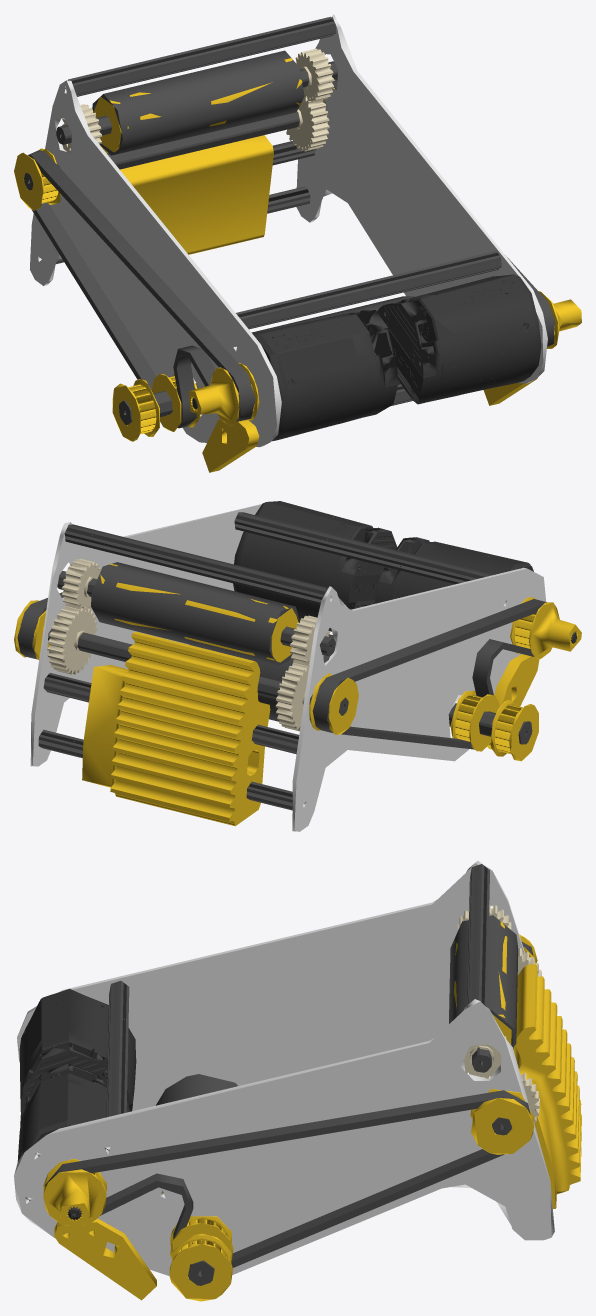
The model's file is 604-hood.glb.
3 renders of one model, top to bottom at view 1: azimuth 30°, elevation 25°; view 2: azimuth 150°, elevation 25°; view 3: azimuth 270°, elevation 25°, orthographic. The views are drawn at different scales.
Parts seen in each view (by area): view 1: Hood Plate, WCP Lightened Hex - 3-8 in, L: 6p5 in, Kraken X60 Brushless Motor, 3D Printed HTD5M Pulley - 18T, Bore: Spline XS, Hub L: 0p75 , Kraken X60 Back Cap (WCP), 20t Aluminum Spur Gear (20 DP, 3/8" Hex Bore); view 2: 3D Printed HTD5M Pulley - 18T, Bore: Spline XS, Hub L: 0p75 , WCP Lightened Hex - 3-8 in, L: 6p5 in, Hood Plate, Kraken X60 Brushless Motor, 20t Aluminum Spur Gear (20 DP, 3/8" Hex Bore), Kraken X60 Back Cap (WCP); view 3: Hood Plate, WCP Lightened Hex - 3-8 in, L: 6p5 in, 3D Printed HTD5M Pulley - 18T, Bore: Spline XS, Hub L: 0p75 , Kraken X60 Brushless Motor, Kraken X60 Back Cap (WCP), 20t Aluminum Spur Gear (20 DP, 3/8" Hex Bore).
Boxes of the visible parts, x1,y1,x2,y2 form: Hood Plate: [30, 14, 547, 447]; WCP Lightened Hex - 3-8 in, L: 6p5 in: [24, 16, 554, 428]; Kraken X60 Brushless Motor: [192, 274, 541, 441]; 3D Printed HTD5M Pulley - 18T, Bore: Spline XS, Hub L: 0p75 : [14, 58, 581, 472]; Kraken X60 Back Cap (WCP): [349, 300, 436, 386]; 20t Aluminum Spur Gear (20 DP, 3/8" Hex Bore): [55, 48, 334, 164]; 3D Printed HTD5M Pulley - 18T, Bore: Spline XS, Hub L: 0p75 : [14, 563, 581, 826]; WCP Lightened Hex - 3-8 in, L: 6p5 in: [17, 512, 546, 810]; Hood Plate: [30, 504, 546, 831]; Kraken X60 Brushless Motor: [233, 501, 577, 643]; 20t Aluminum Spur Gear (20 DP, 3/8" Hex Bore): [47, 558, 330, 731]; Kraken X60 Back Cap (WCP): [341, 526, 429, 584]; Hood Plate: [14, 860, 554, 1275]; WCP Lightened Hex - 3-8 in, L: 6p5 in: [45, 864, 533, 1285]; 3D Printed HTD5M Pulley - 18T, Bore: Spline XS, Hub L: 0p75 : [43, 921, 581, 1301]; Kraken X60 Brushless Motor: [17, 989, 136, 1219]; Kraken X60 Back Cap (WCP): [20, 1043, 107, 1129]; 20t Aluminum Spur Gear (20 DP, 3/8" Hex Bore): [457, 904, 541, 1122].
Size of the model in its own units: 0.2541 by 0.1667 by 0.2903.
